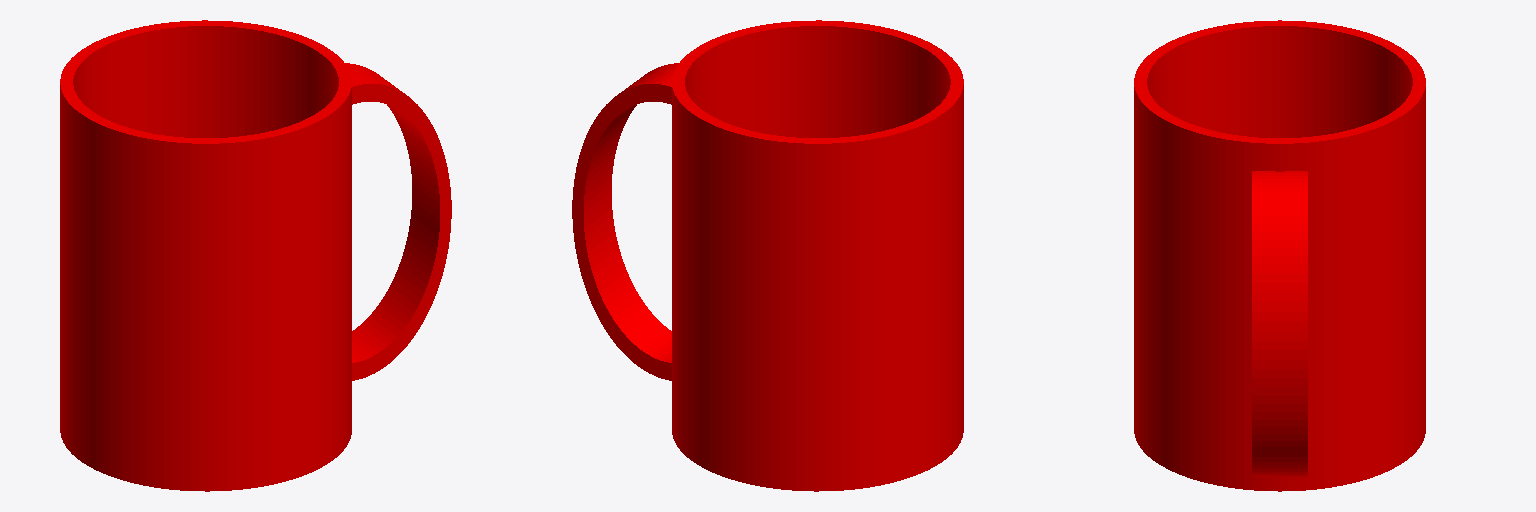
The robot description file, URDF, robot "mug.urdf":
<?xml version="1.0" ?>
<robot name="mug.urdf">
  <link name="baseLink">
    <inertial>
      <origin rpy="0 0 0" xyz="0 0 0"/>
       <mass value=".1"/>
       <inertia ixx="1" ixy="0" ixz="0" iyy="1" iyz="0" izz="1"/>
    </inertial>
    <contact>
      <lateral_friction value="1.0"/>
      <inertia_scaling value="3.0"/>
    </contact>
    <visual>
      <origin rpy="0 0 0" xyz="0 0 0"/>
      <geometry>
        <mesh filename="13.stl" scale="1 1 1" />
      </geometry>
      <material name="red">
        <color rgba="1 0 0 1"/>
      </material>
    </visual>
    <collision>
      <origin rpy="0 0 0" xyz="0 0 0"/>
      <geometry>
        <mesh filename="13_convex.obj" scale="1 1 1" />
      </geometry>
    </collision>
  </link>
</robot>

--- Facts derived from the render (not from the file) ---
Views: 3 orthographic renders of the robot side by side, from view 1: azimuth 30°, elevation 25°; view 2: azimuth 150°, elevation 25°; view 3: azimuth 270°, elevation 25°.
Model mug.urdf with 1 links and 0 joints (none), rooted at baseLink, posed all joints at 0.
Visible links, largest first — view 1: baseLink; view 2: baseLink; view 3: baseLink.
Link boxes in pixels (<box>): baseLink: <box>60,20,451,491</box>; baseLink: <box>572,20,963,491</box>; baseLink: <box>1134,20,1425,491</box>.
Size in the robot's own frame: 0.1585 by 0.112 by 0.1472 metres.
1 mesh visuals loaded from 1 distinct referenced files (1 binary STL).